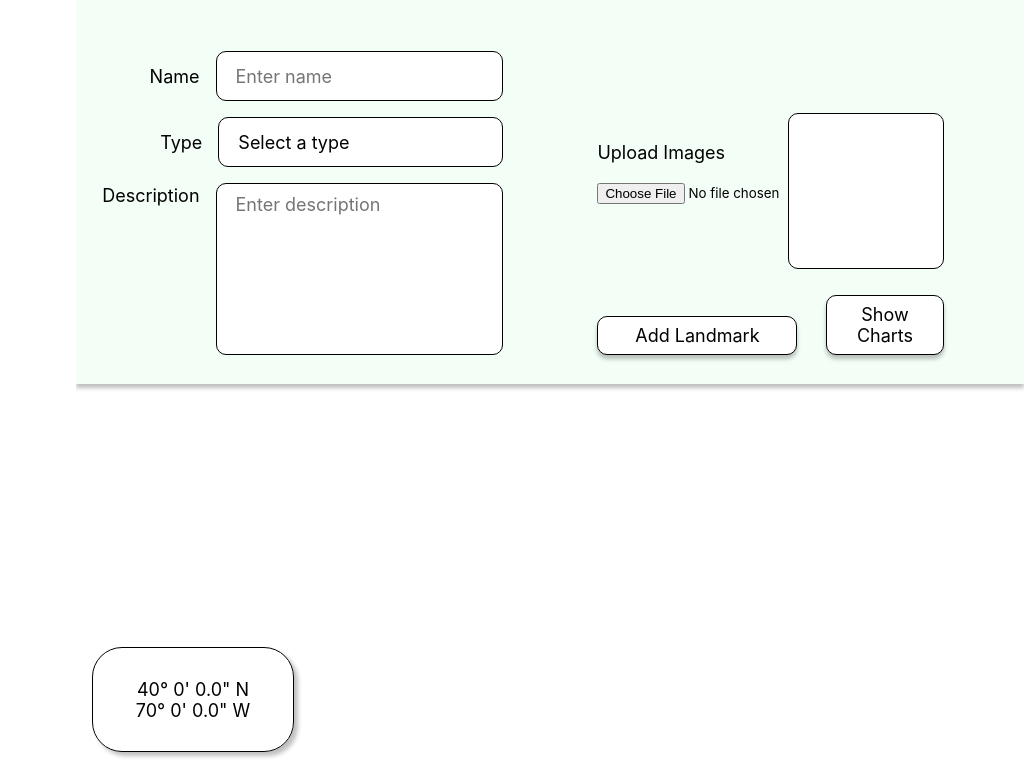
Test: AddScreen CRUD operations › should create a new landmark and reset form when submitted
Type "Test Location" into the field with placeholder "Enter name" at (359, 76), box x1=216 y1=51 x2=503 y2=101
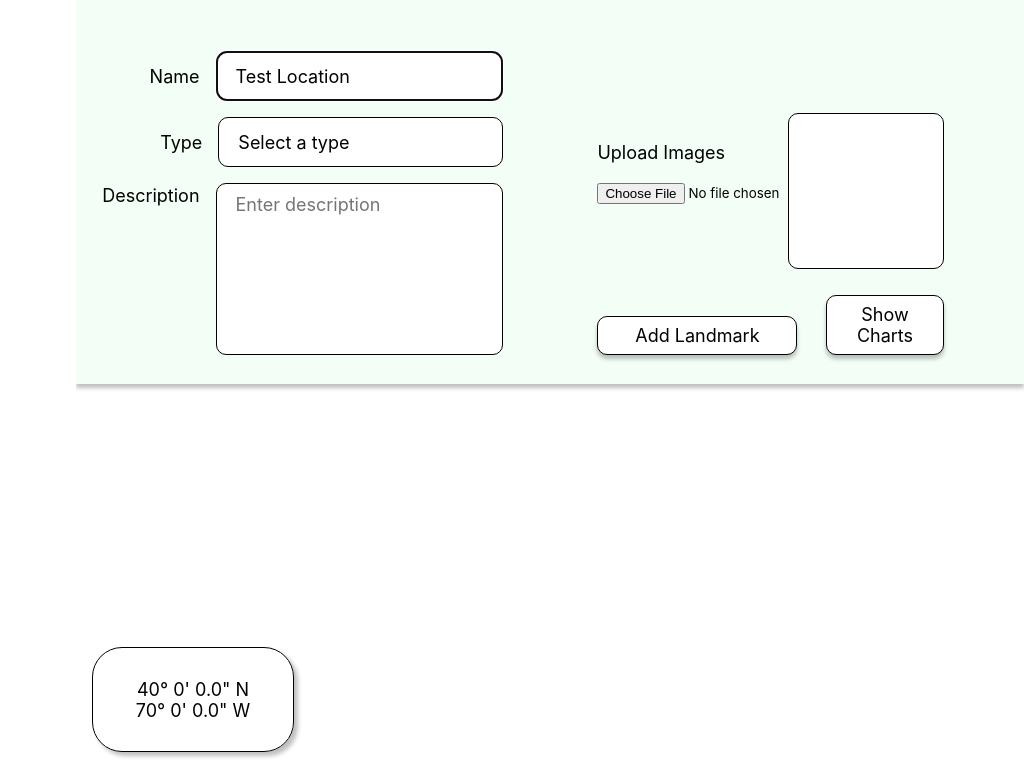
Type "Test Description" into the text box with placeholder "Enter description" at (359, 269), box x1=216 y1=183 x2=503 y2=355
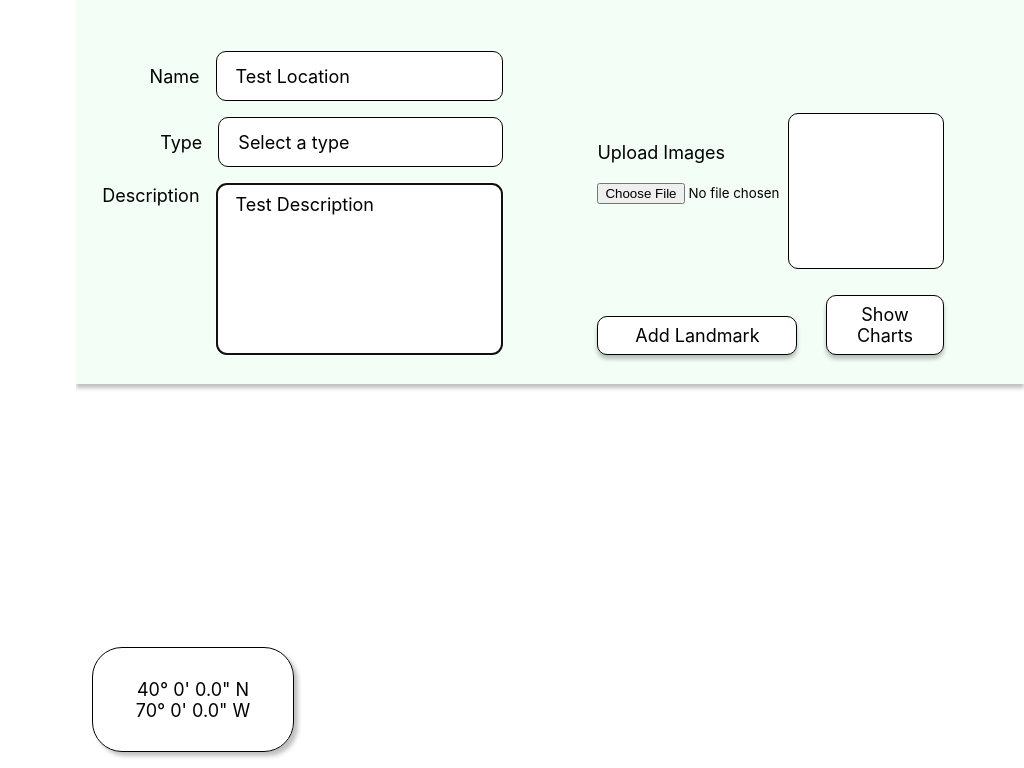
Click the text "Select a type" at (360, 142), box x1=218 y1=117 x2=503 y2=167
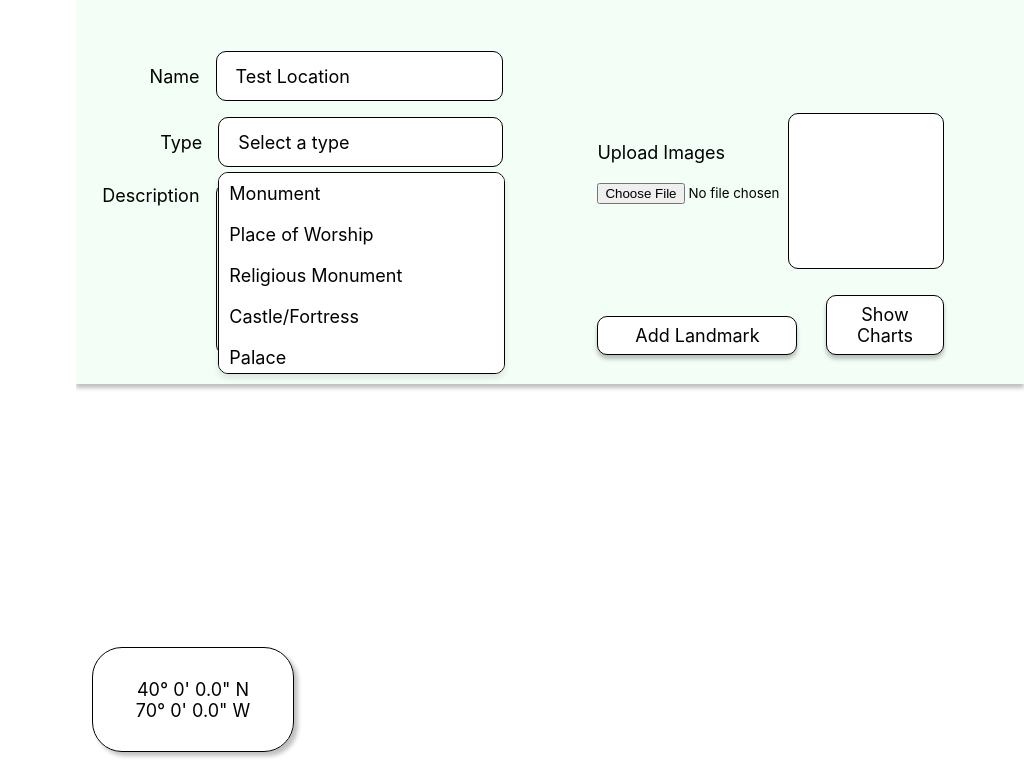
Click the list item "Monument" at (275, 194), box x1=229 y1=183 x2=320 y2=204
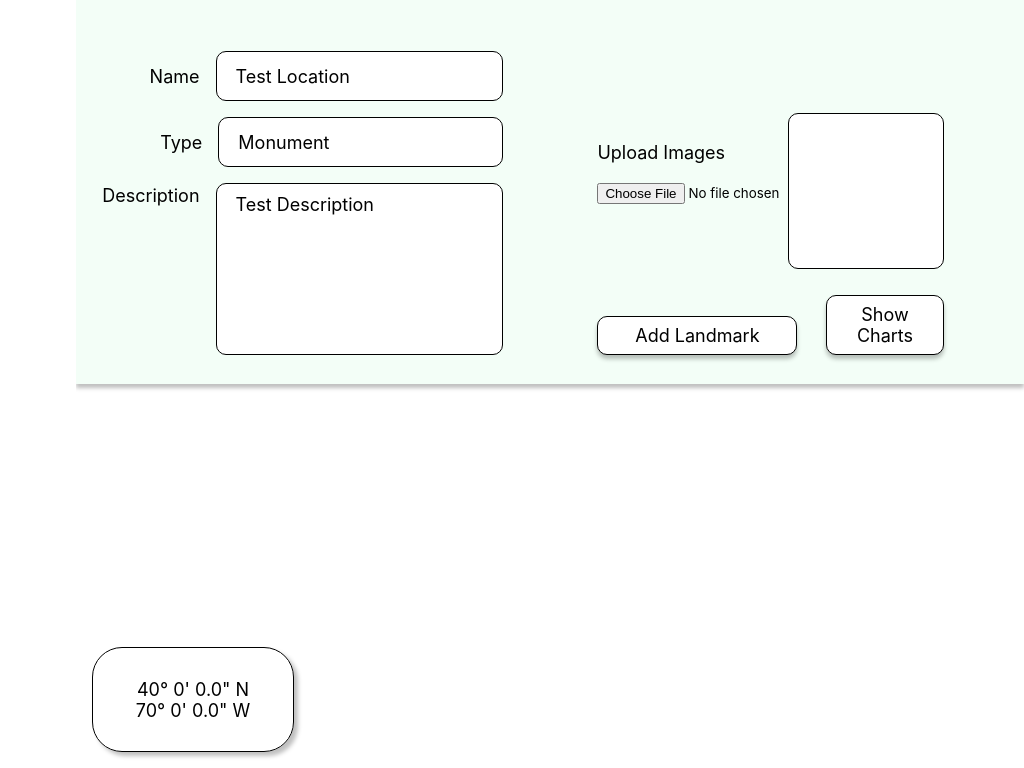
Click the button "Add Landmark" at (697, 336), box x1=597 y1=316 x2=797 y2=355
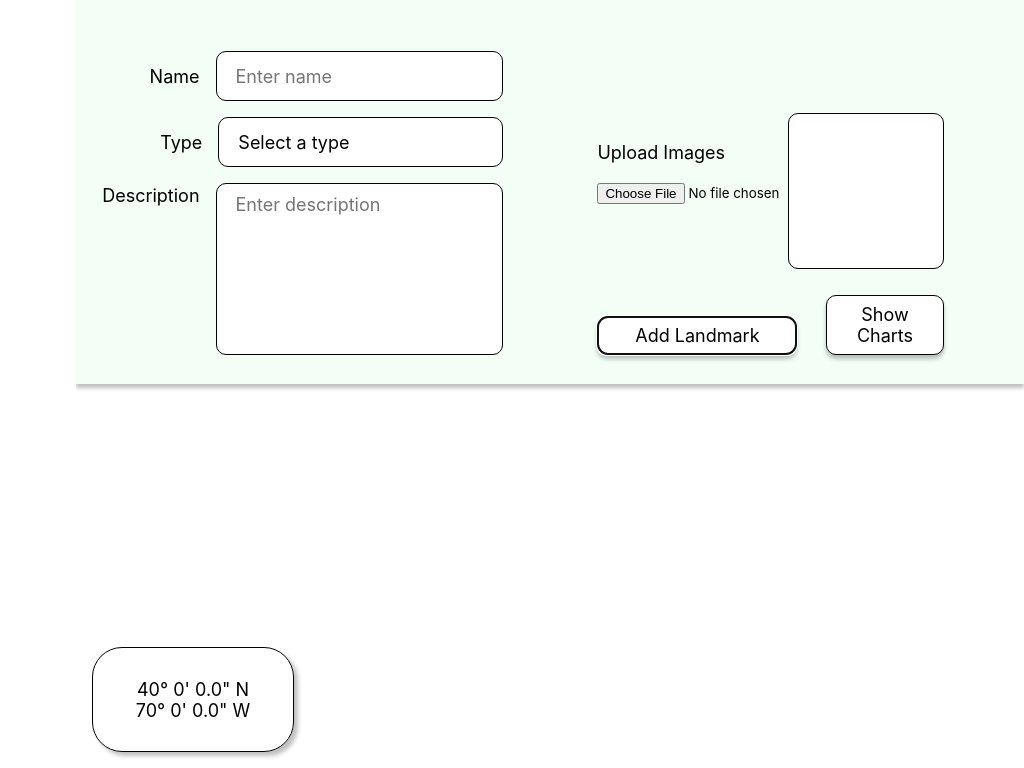
Now the field with placeholder "Enter name" is empty, box x1=216 y1=51 x2=503 y2=101
Now the text box with placeholder "Enter description" is empty, box x1=216 y1=183 x2=503 y2=355
Now the text "Select a type" is shown, box x1=218 y1=117 x2=503 y2=167
